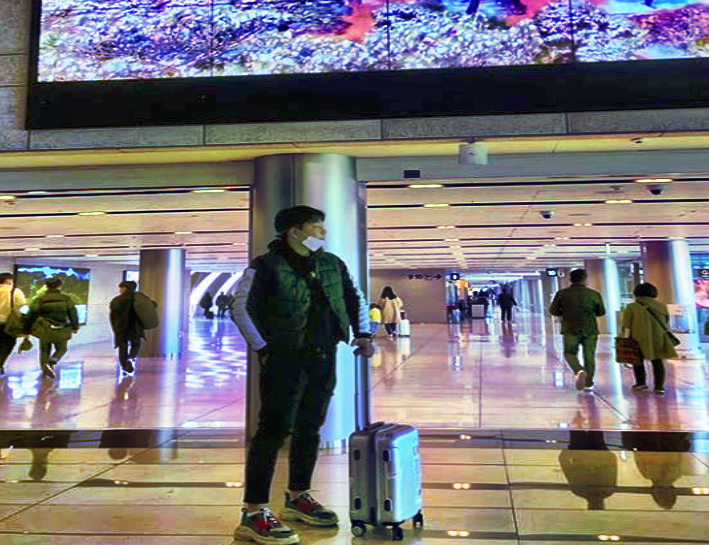mask_weared_incorrect: (276, 203, 331, 256)
